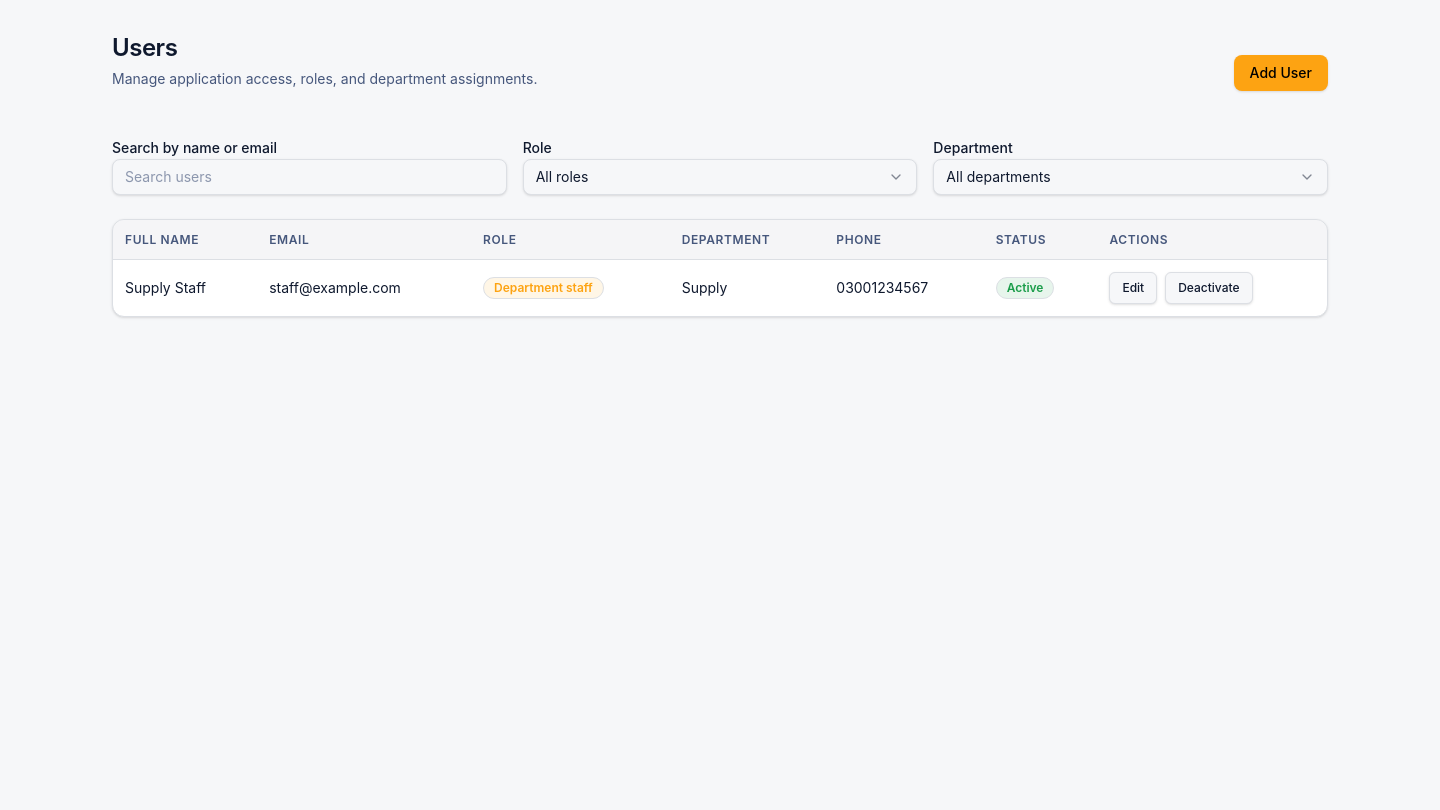
Test: UsersListPage › opens the create form and requires an owner-set initial password
Click the button "Add User": (1281, 73) [1234,55,1328,91]
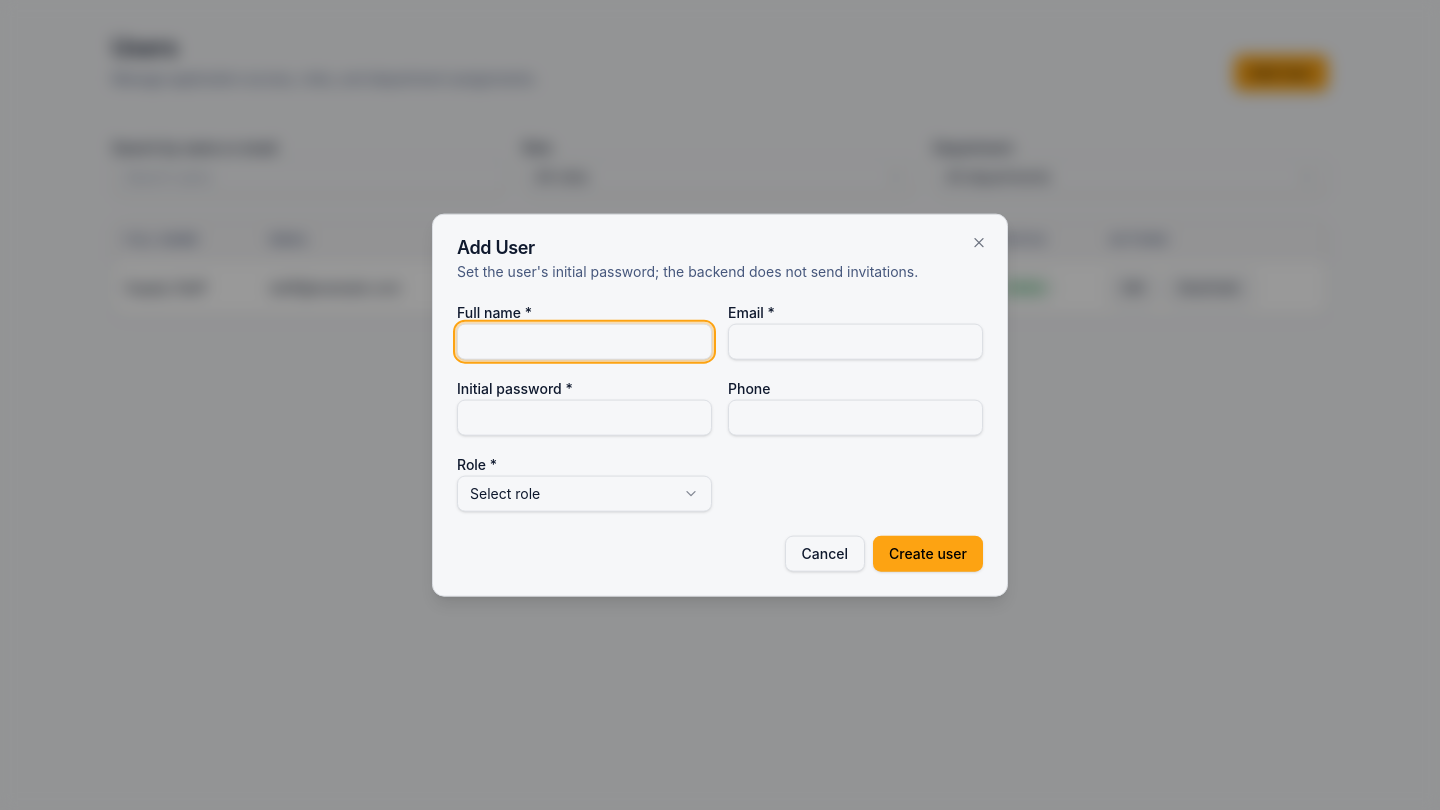
Expected: the heading "Add User" is shown, [457,237,535,258]
Expected: the password field labelled "Initial password *" is shown, [457,399,712,435]
Expected: the text "backend does not send invitations" is shown, [457,263,918,280]
